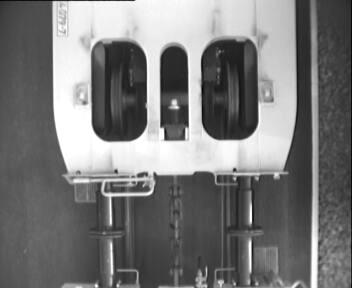Copy of Copy of wagon_scan: (85, 31, 271, 146)
